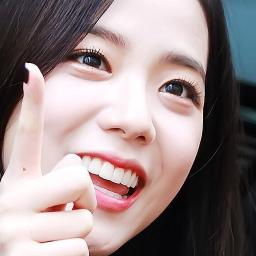face: (42, 0, 202, 256)
